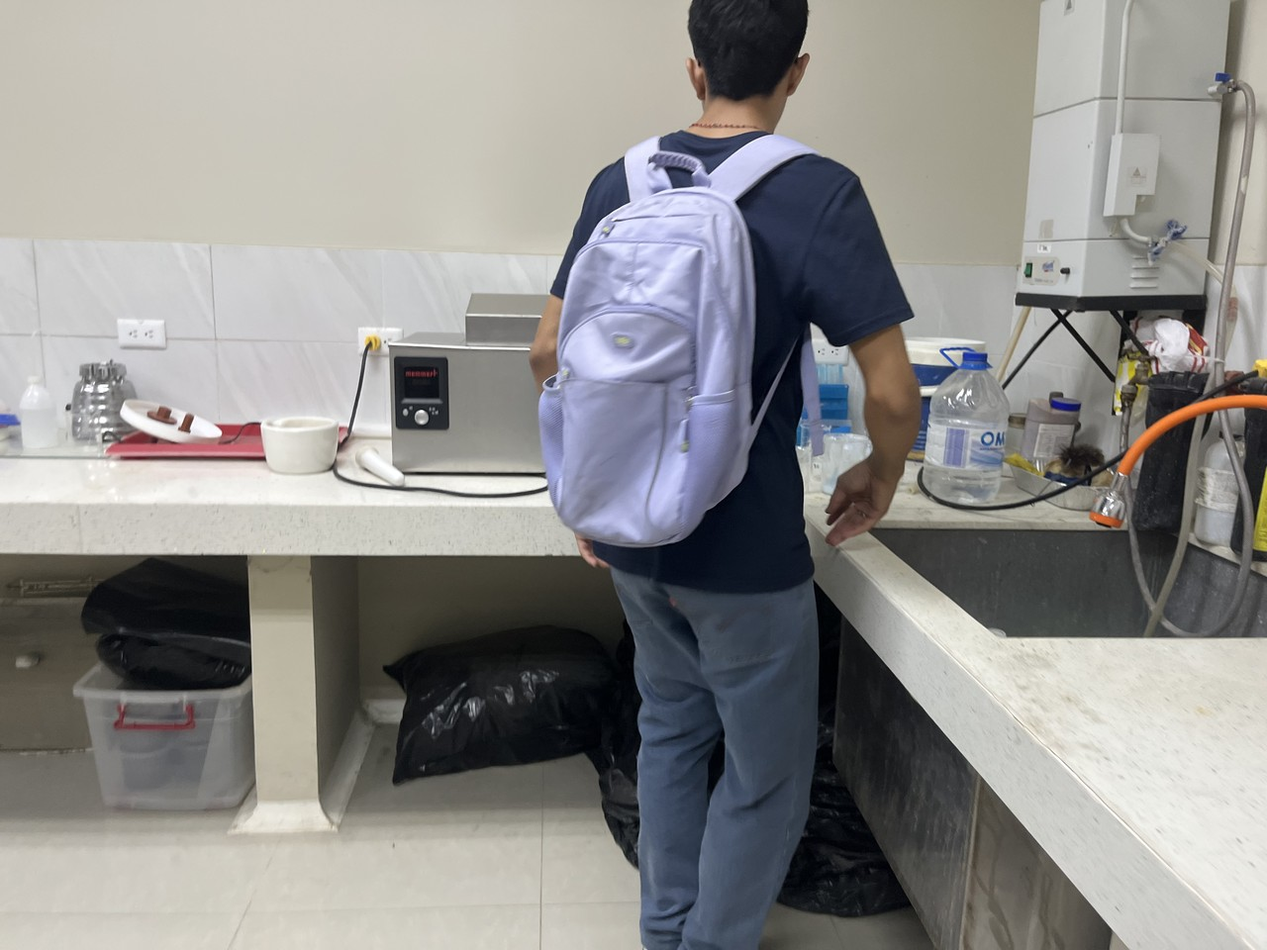memmert: (387, 256, 561, 471)
